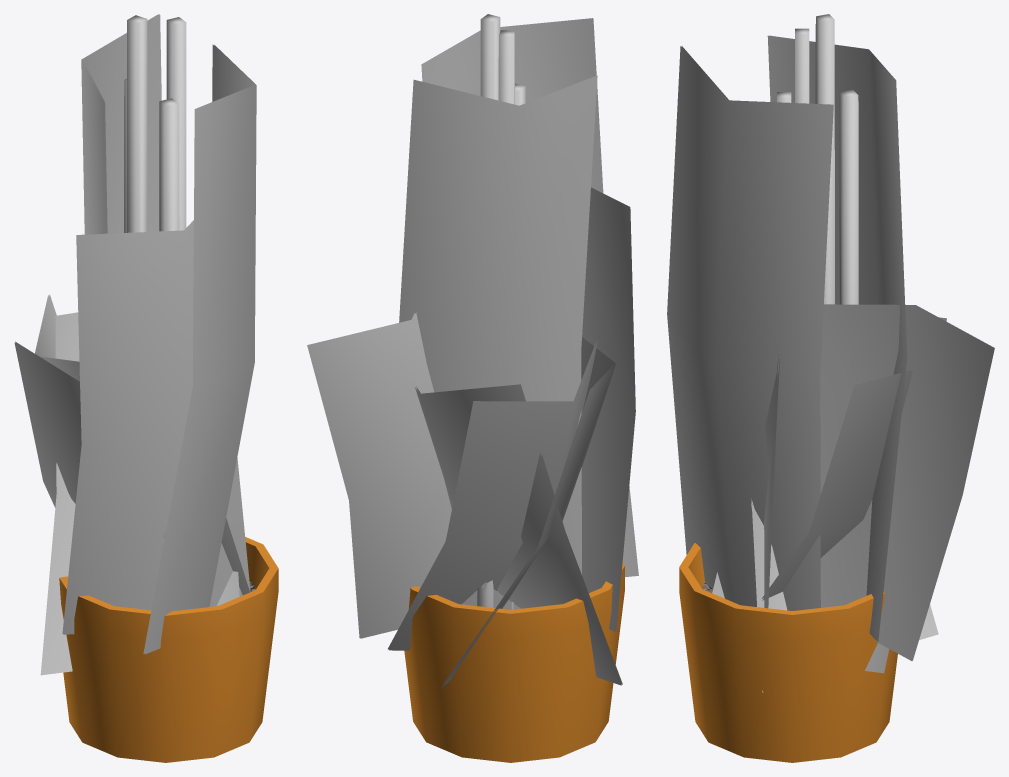
Rendered from pot_1.fbx.
3 views of the same model, side by side, from view 1: azimuth 30°, elevation 25°; view 2: azimuth 150°, elevation 25°; view 3: azimuth 270°, elevation 25° (orthographic).
Parts seen in each view (by area): view 1: pot_1; view 2: pot_1; view 3: pot_1.
Boxes of the visible parts, x1=… form: pot_1: x1=14, y1=14, x2=278, y2=762; pot_1: x1=307, y1=14, x2=638, y2=762; pot_1: x1=667, y1=14, x2=994, y2=762.
Size of the model in its own units: 0.36 by 1.09 by 0.4649.
